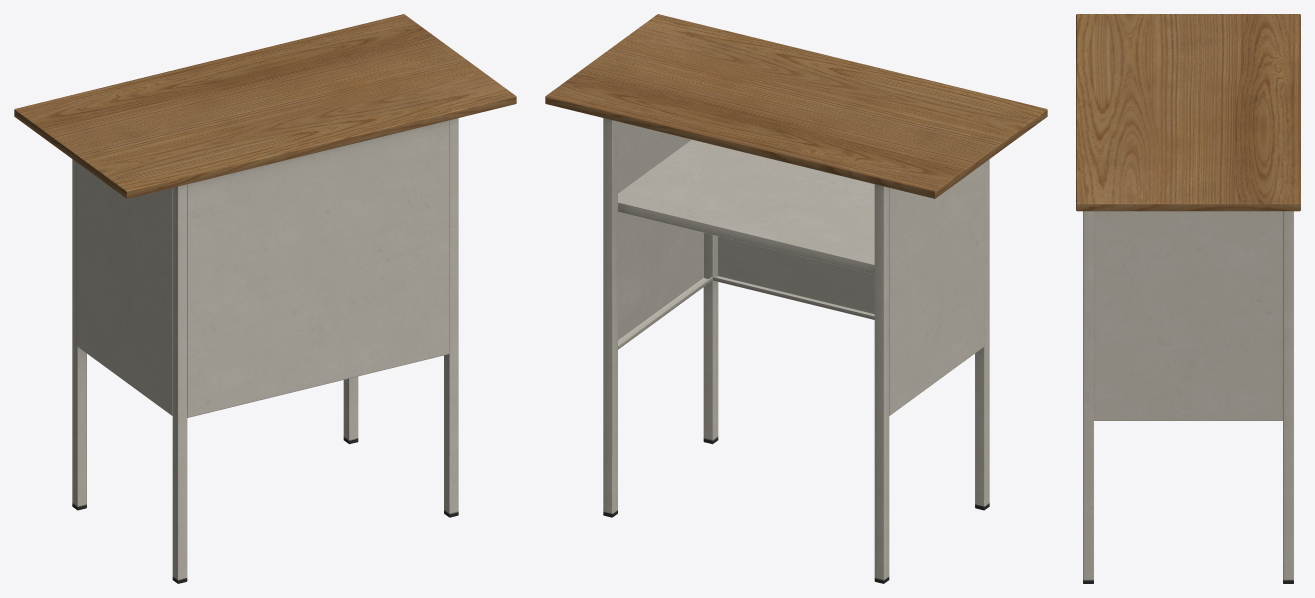
The model's file is TeachersDesk.FBX.
The picture shows the model from 3 angles, left to right: view 1: azimuth 30°, elevation 25°; view 2: azimuth 150°, elevation 25°; view 3: azimuth 270°, elevation 25°; orthographic projection.
Parts seen in each view (by area): view 1: TeachersDesk; view 2: TeachersDesk; view 3: TeachersDesk.
Part boxes in pixels (left/top/right/bottom): TeachersDesk: left=14, top=14, right=516, bottom=583; TeachersDesk: left=545, top=14, right=1047, bottom=583; TeachersDesk: left=1076, top=14, right=1300, bottom=583.
Size of the model in its own units: 100 by 100 by 50.
